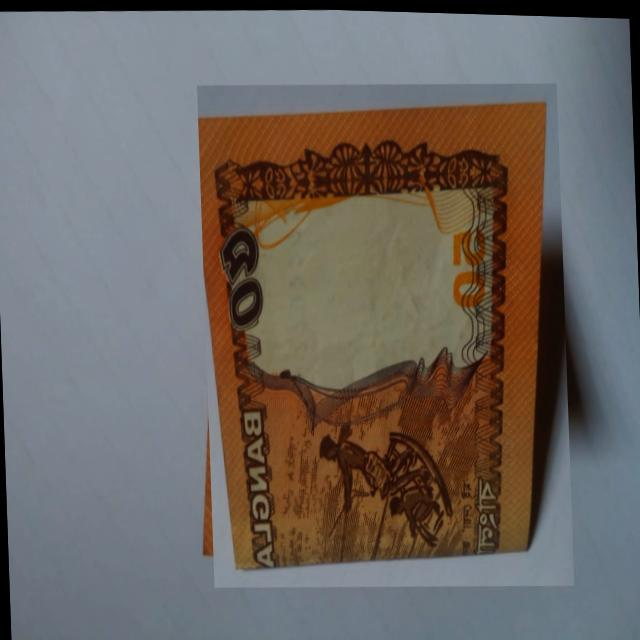Taka: (197, 72, 574, 594)
